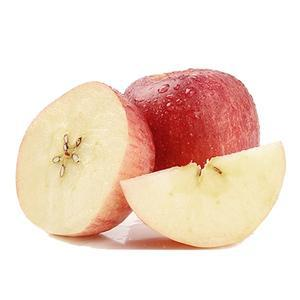apple: (127, 69, 261, 172)
